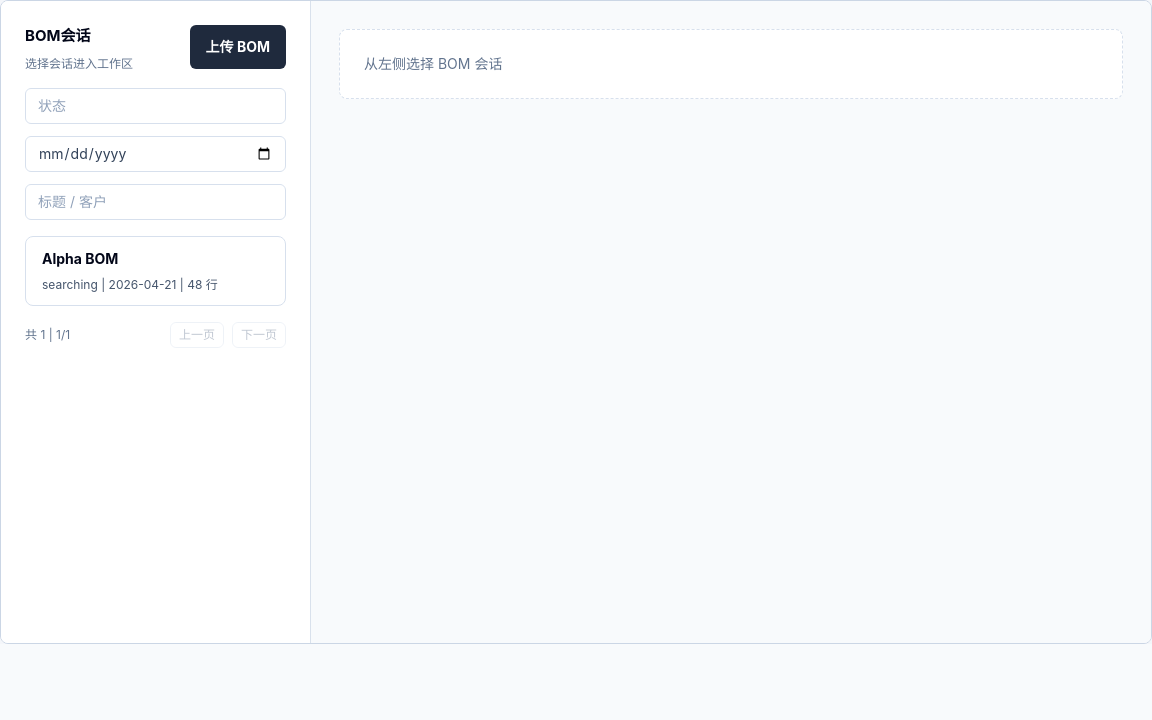
Test: BomWorkbenchPage › shows workbench tabs for the selected session
This screenshot has width=1152, height=720.
What coordinates should you click on to do the following:
click the button "Alpha BOM searching | 2026-04-21 | 48 行"
I would click on:
 (80, 258)
Its box is [25,236,286,306].
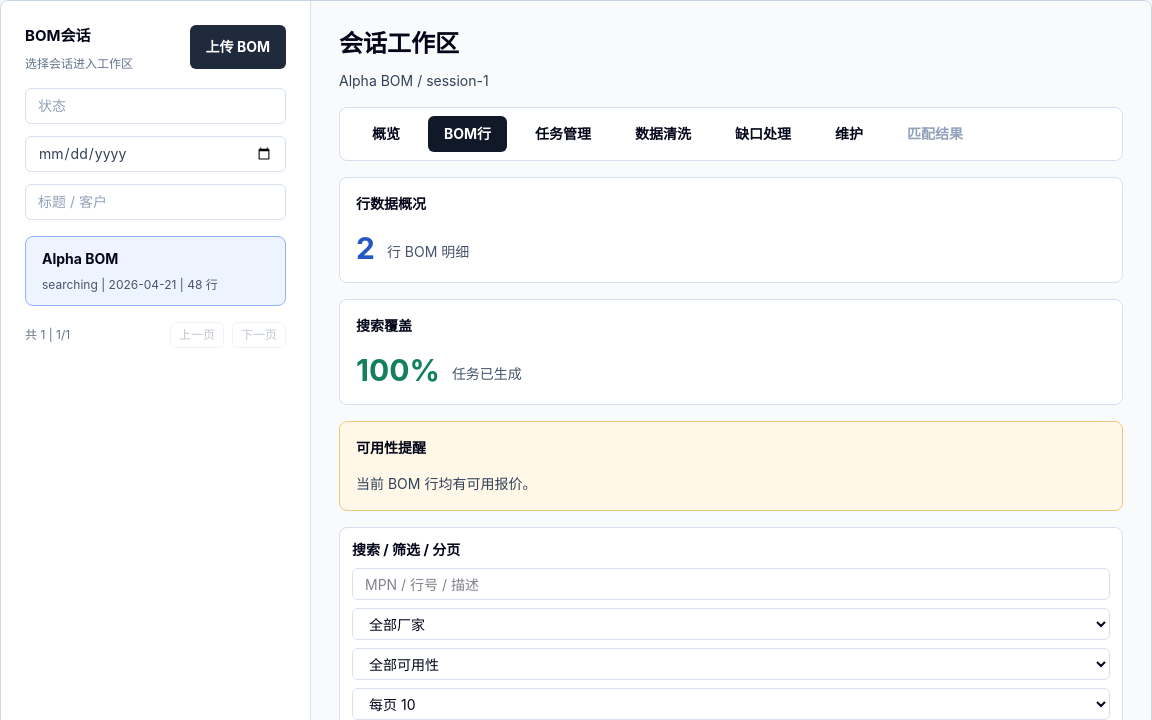
Expected: the tab "缺口处理" is shown, [719,116,807,152]
Expected: the tab "维护" is shown, [819,116,879,152]
Expected: the tab "匹配结果" is shown, [891,116,979,152]
